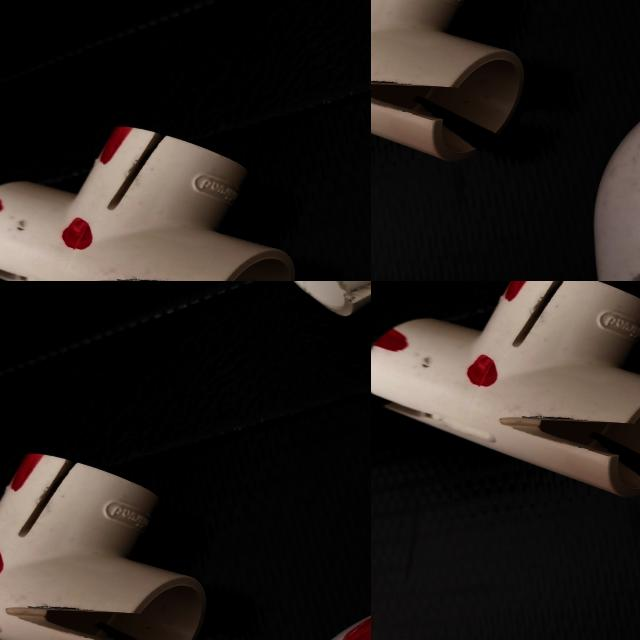Defective: (498, 413, 640, 484), (496, 417, 626, 459), (512, 281, 573, 350), (455, 350, 520, 394), (469, 359, 498, 389), (374, 333, 406, 352), (513, 281, 539, 286)
T Joint: (371, 281, 640, 506)
